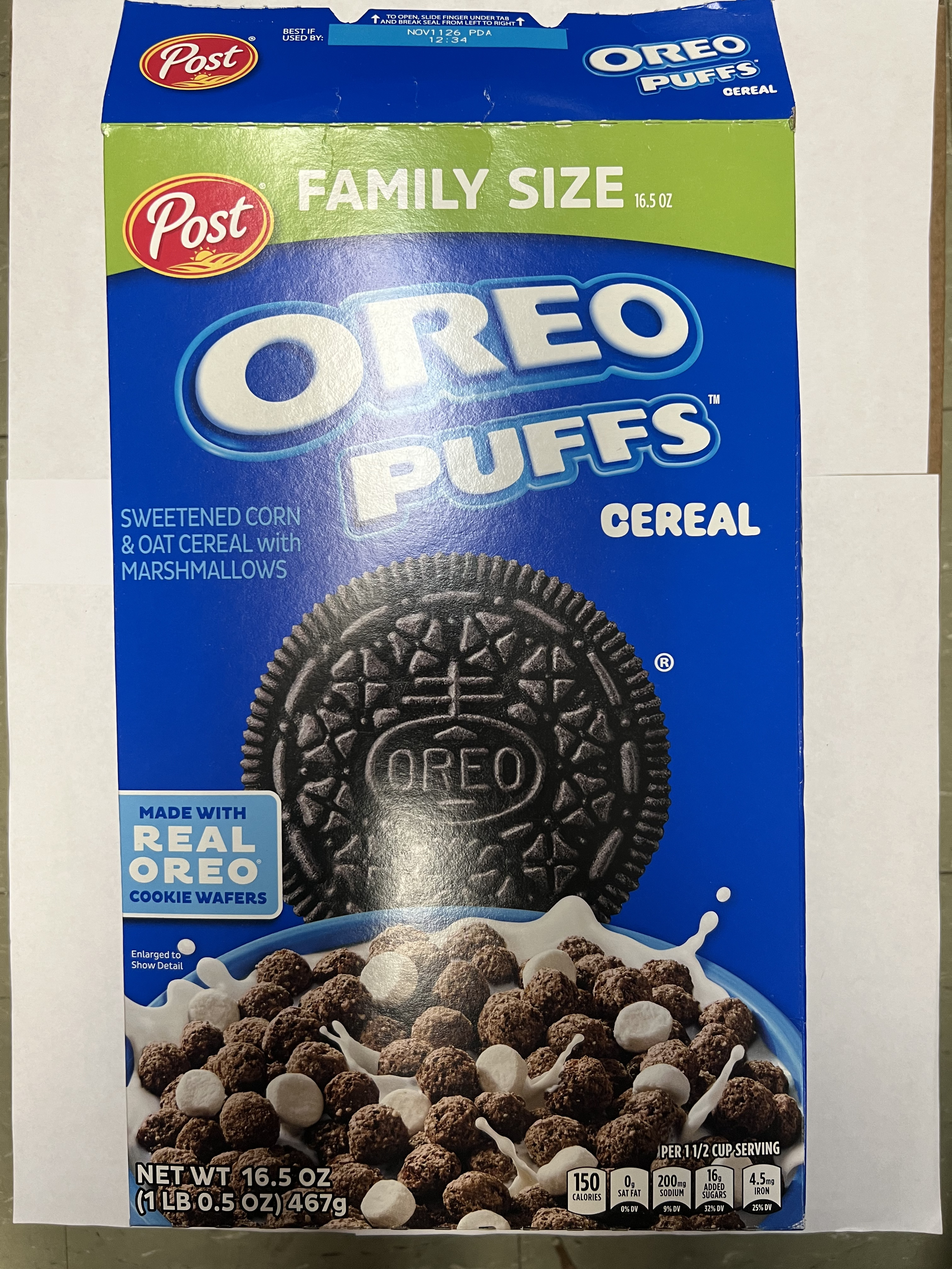packaged: (101, 32, 816, 1241)
